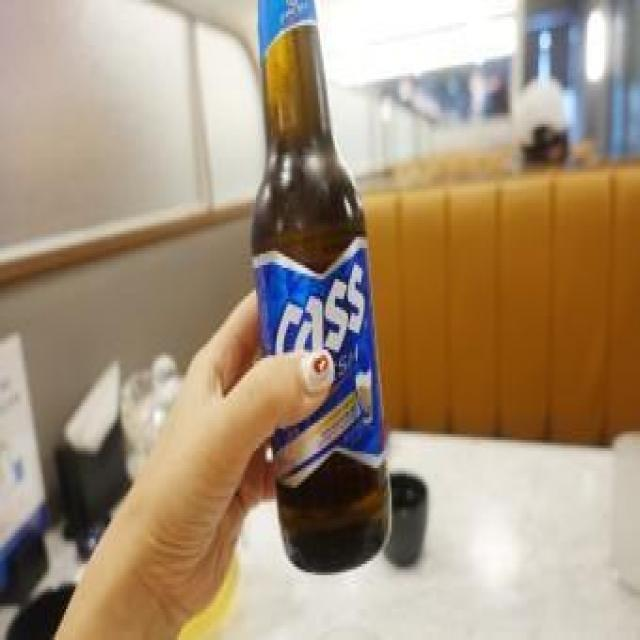beer-bottle: (244, 0, 402, 578)
